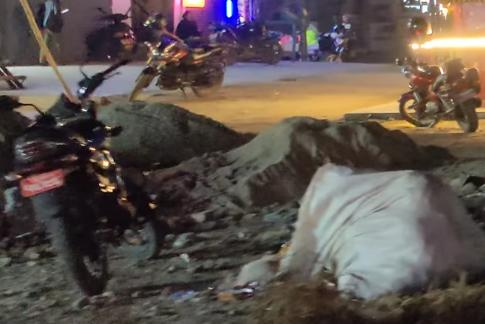bike: (0, 48, 171, 304), (385, 20, 485, 140)
